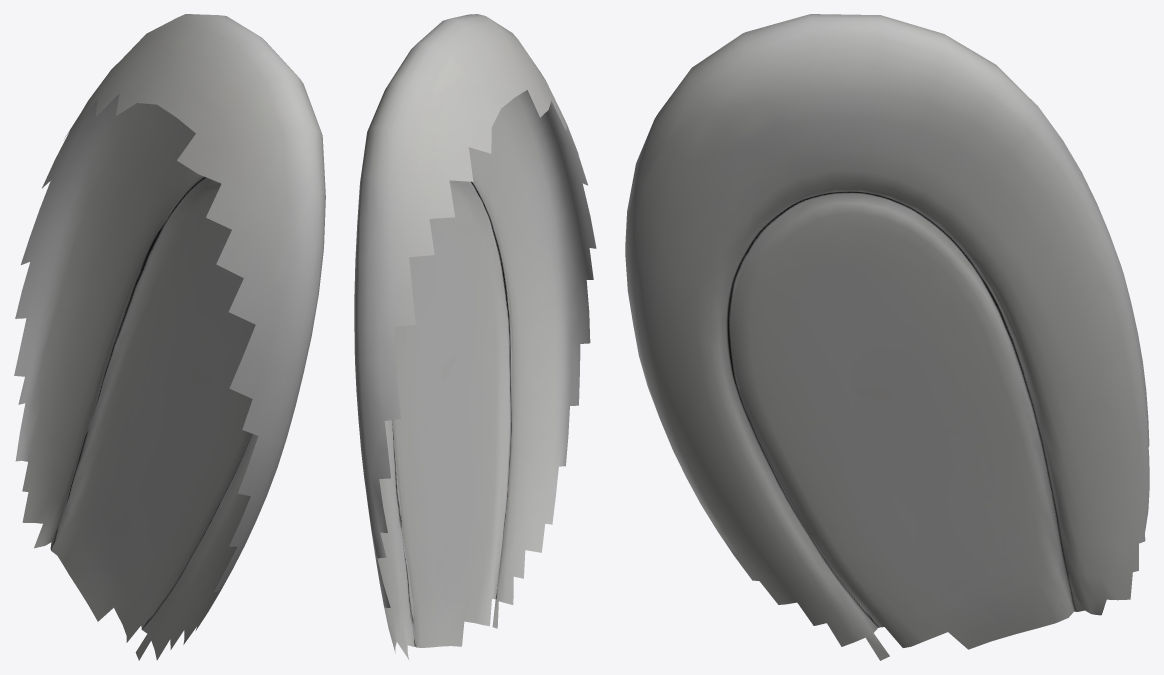
The model's file is chr_player_capsule01_bunny01_ear_r_top3d_v001.glb.
3 views of the same model, side by side, from view 1: azimuth 30°, elevation 25°; view 2: azimuth 150°, elevation 25°; view 3: azimuth 270°, elevation 25° (orthographic). The views are drawn at different scales.
Parts seen in each view (by area): view 1: BunnyEarR; view 2: BunnyEarR; view 3: BunnyEarR.
Part boxes in pixels (box(x1,y1,x2,y2)): BunnyEarR: box(14, 14, 325, 660); BunnyEarR: box(354, 14, 596, 660); BunnyEarR: box(625, 14, 1149, 660).
Size of the model in its own units: 0.1102 by 0.5436 by 0.3758.
Materials: 1 (1 with a texture image).
